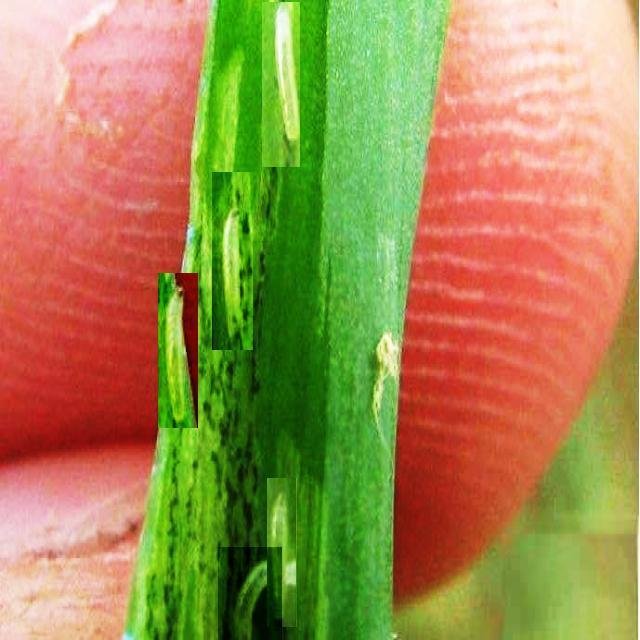whorl-maggot: (212, 172, 253, 350), (263, 2, 301, 167), (159, 273, 199, 428), (218, 547, 282, 640), (268, 478, 298, 627)
